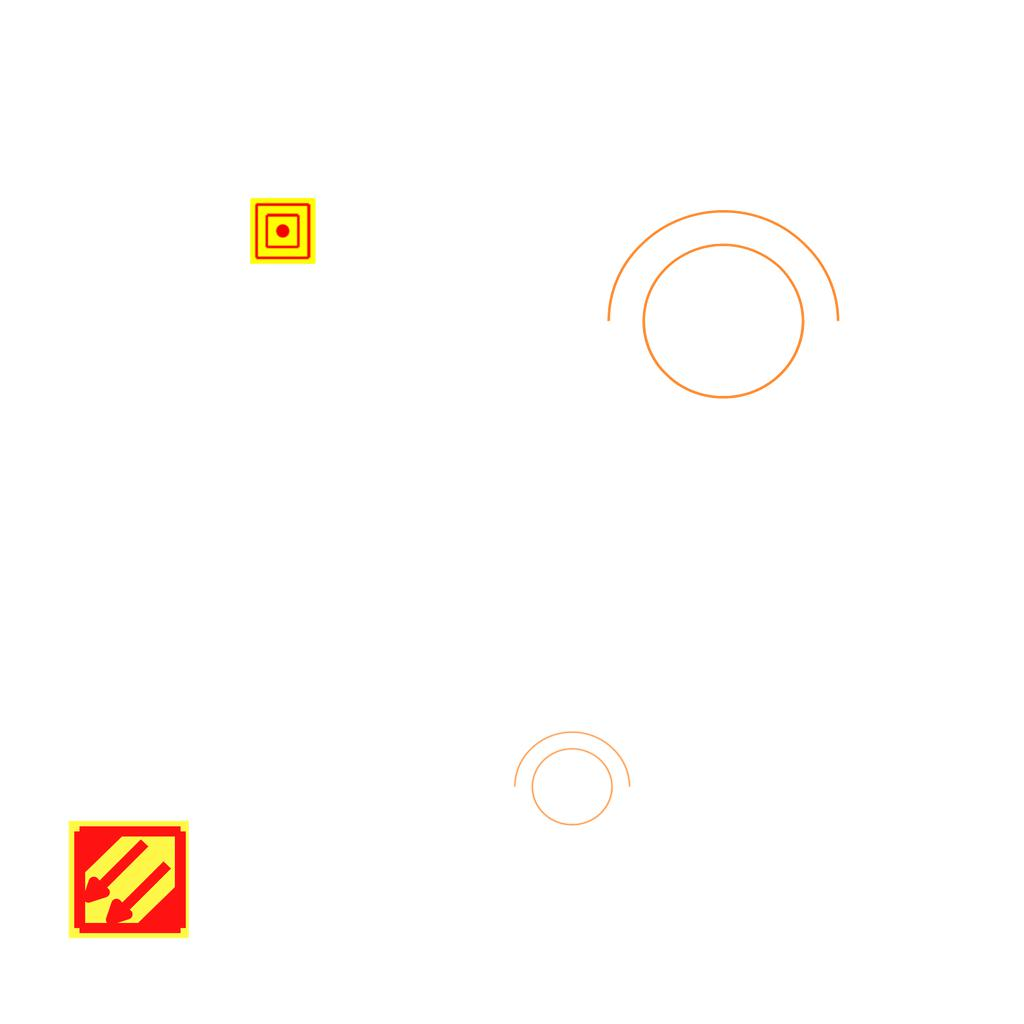ASR_Ansaugrauchmelder: (66, 817, 191, 942)
NAM-Nichtautomatischer_Melder: (250, 198, 316, 264)
Scheinwerfer_fuer_Alarmbeleuchtung: (585, 199, 849, 424), (503, 726, 635, 838)
